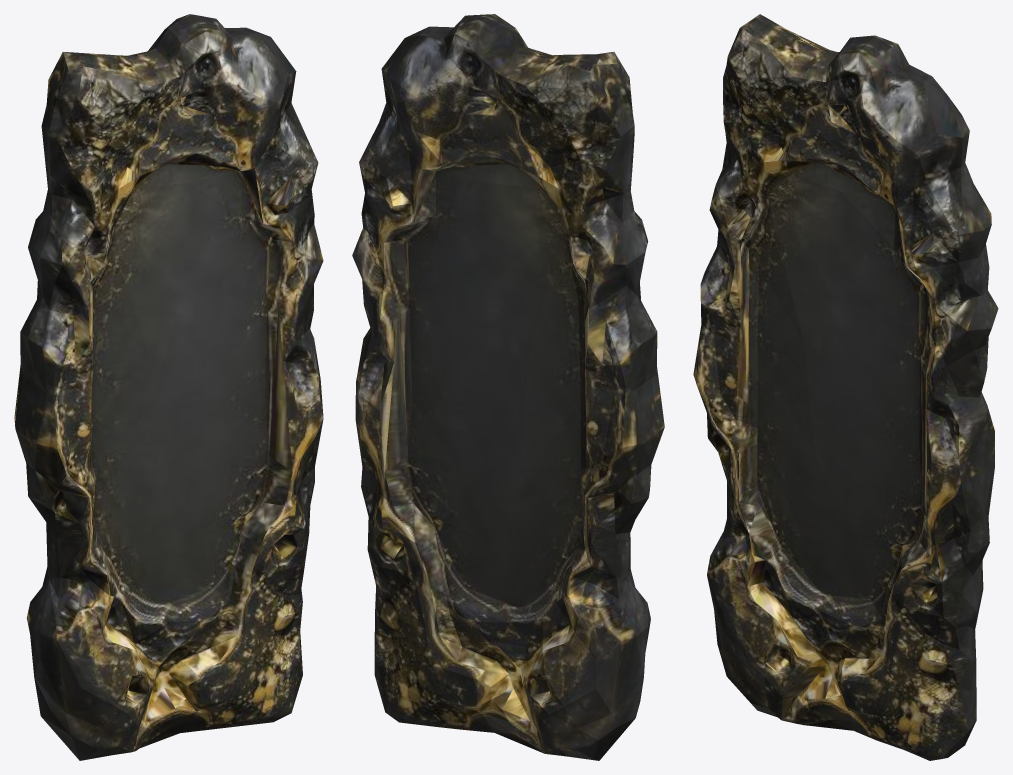
File: glif-yellow.glb
3 views of the same model, side by side, from view 1: azimuth 30°, elevation 25°; view 2: azimuth 150°, elevation 25°; view 3: azimuth 330°, elevation 25° (orthographic). The views are drawn at different scales.
Parts seen in each view (by area): view 1: Mesh_0.002; view 2: Mesh_0.002; view 3: Mesh_0.002.
Part boxes in pixels (x1,y1,x2,y2): Mesh_0.002: (14,14,323,760); Mesh_0.002: (352,14,664,760); Mesh_0.002: (693,14,998,760).
Bounding box in the file's own units: 0.8216 × 1.91 × 0.2223.
1 material, 1 textured.
